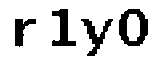0: (118, 8, 150, 50)
1: (48, 6, 77, 49)
r: (15, 15, 39, 48)
y: (79, 15, 113, 60)
